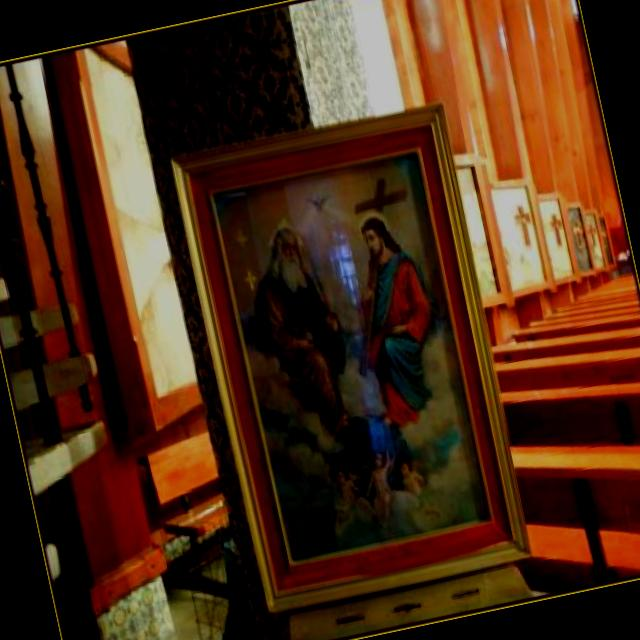Person: (236, 220, 369, 456), (335, 210, 461, 432), (358, 442, 407, 528), (318, 457, 368, 528), (395, 446, 430, 502)
